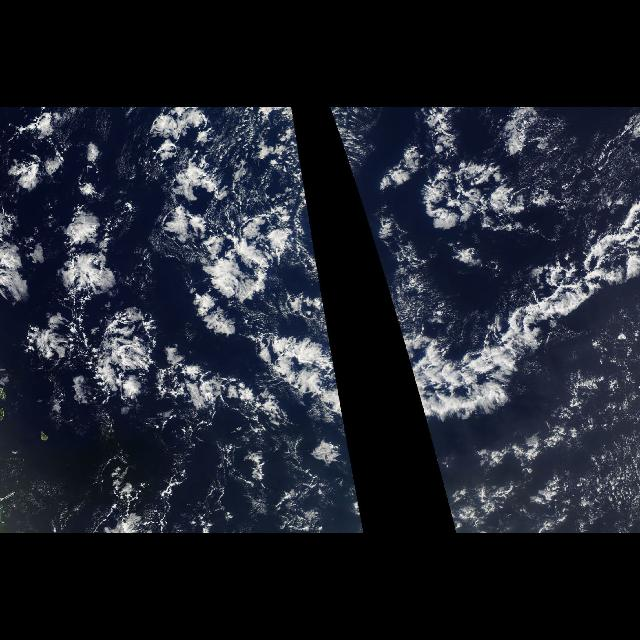Flower: (18, 144, 296, 432)
